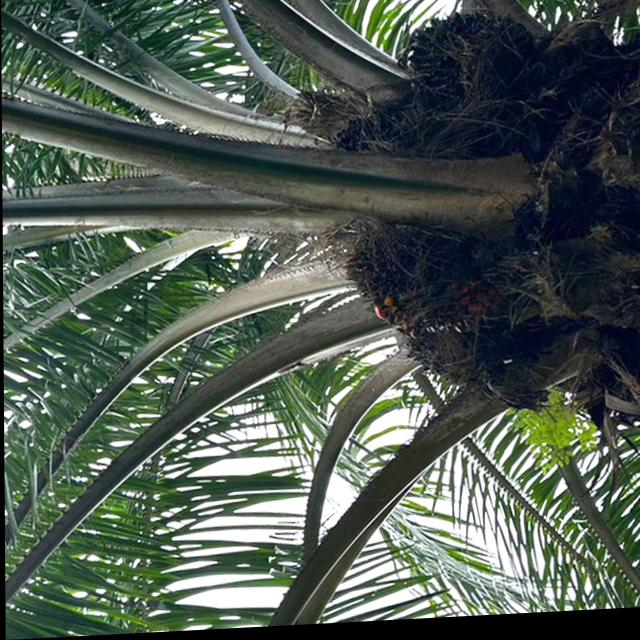ripe: (328, 209, 503, 350)
